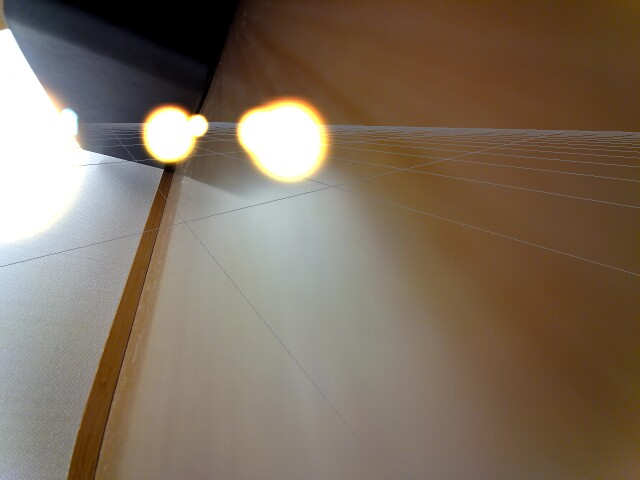firebig: (0, 93, 86, 253)
